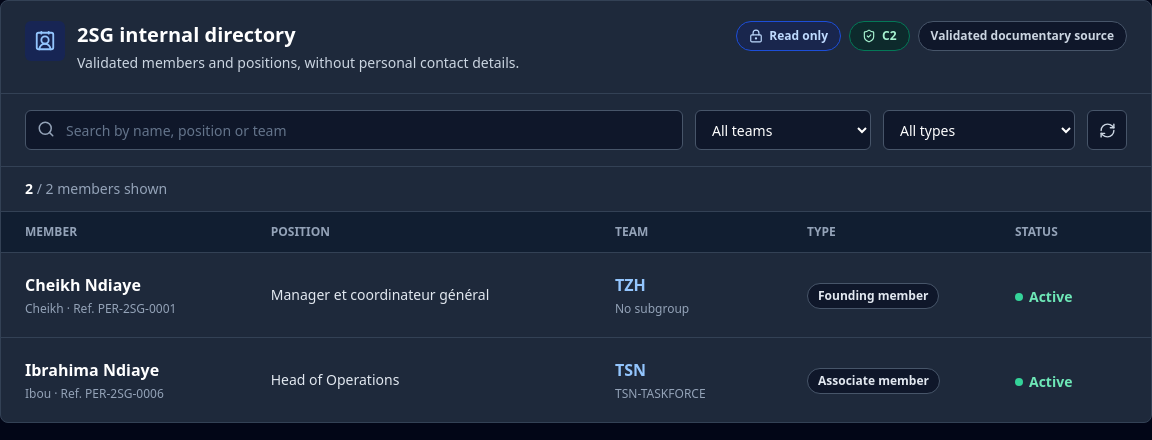
Scenario: shows and searches a translated position in English
Check: the text "Head of Operations" is shown, box [271,370,399,389]
Type "Head of Operations" into the search field with placeholder "Search by name, position or team".
click(354, 130); type("Head of Operations")  # box [25,110,683,150]
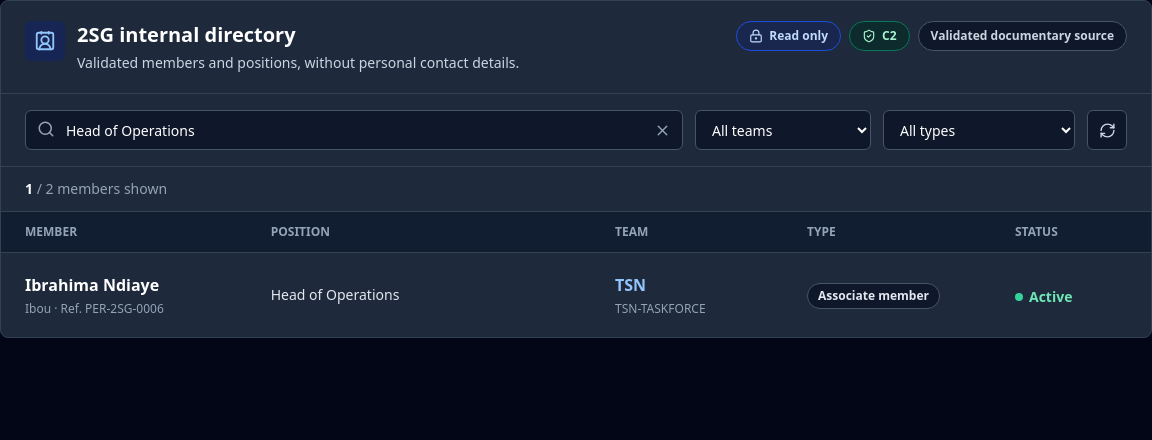
Check: the text "Ibrahima Ndiaye" is shown, box [25,274,159,296]
Check: the text "Cheikh Ndiaye" is gone
